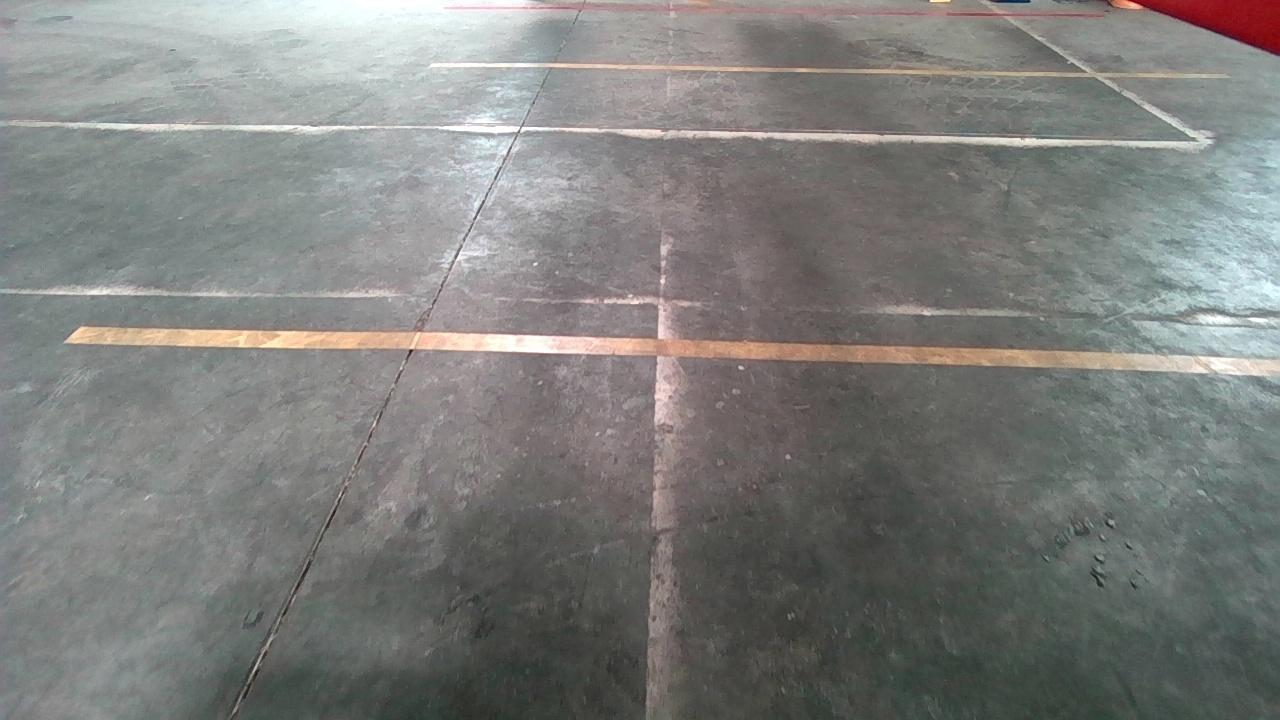yellow_line: (67, 326, 1280, 376)
